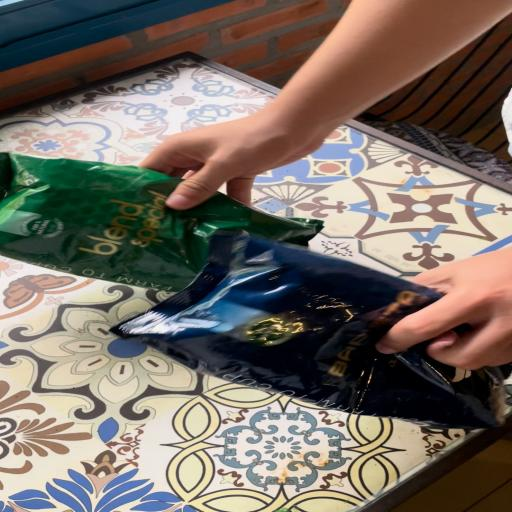cafe_hat: (0, 153, 321, 292)
cafe_xay: (111, 230, 510, 429)
